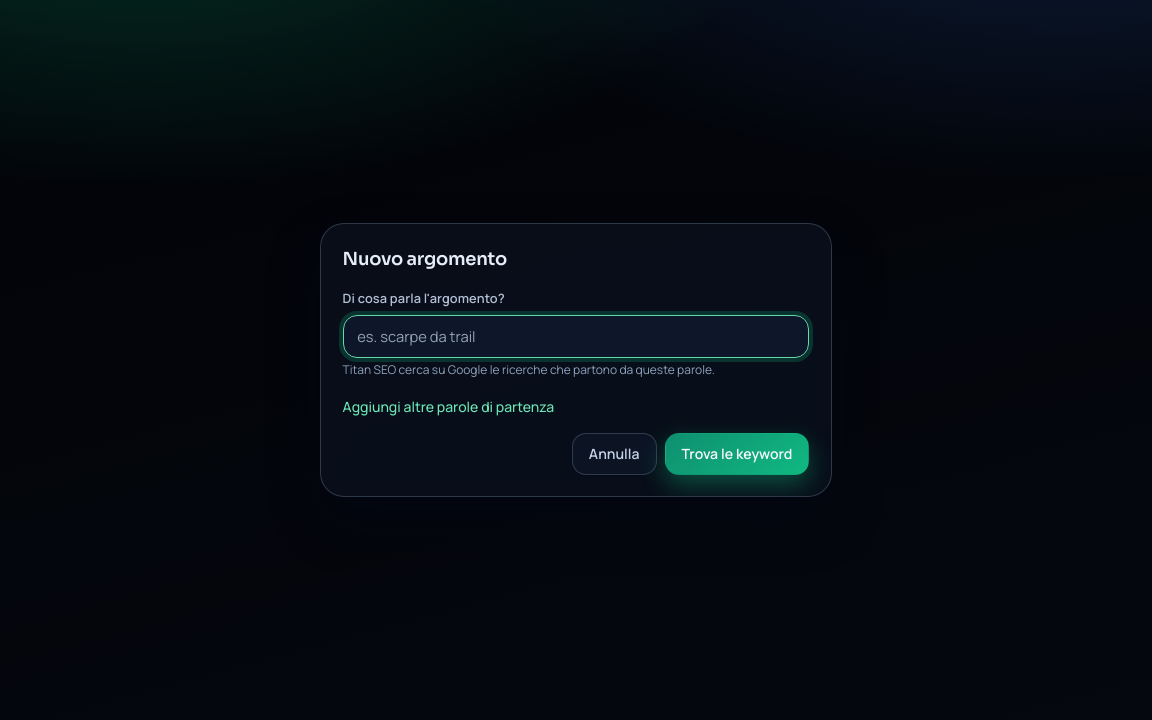
Test case: NewTopicDialog › con un nome già usato mostra il messaggio sotto il campo e non avvia nulla
The width and height of the screenshot is (1152, 720).
Type "scarpe" into the field labelled "Di cosa parla l'argomento?".
click(576, 337); type("scarpe")  # box [343,315,809,358]
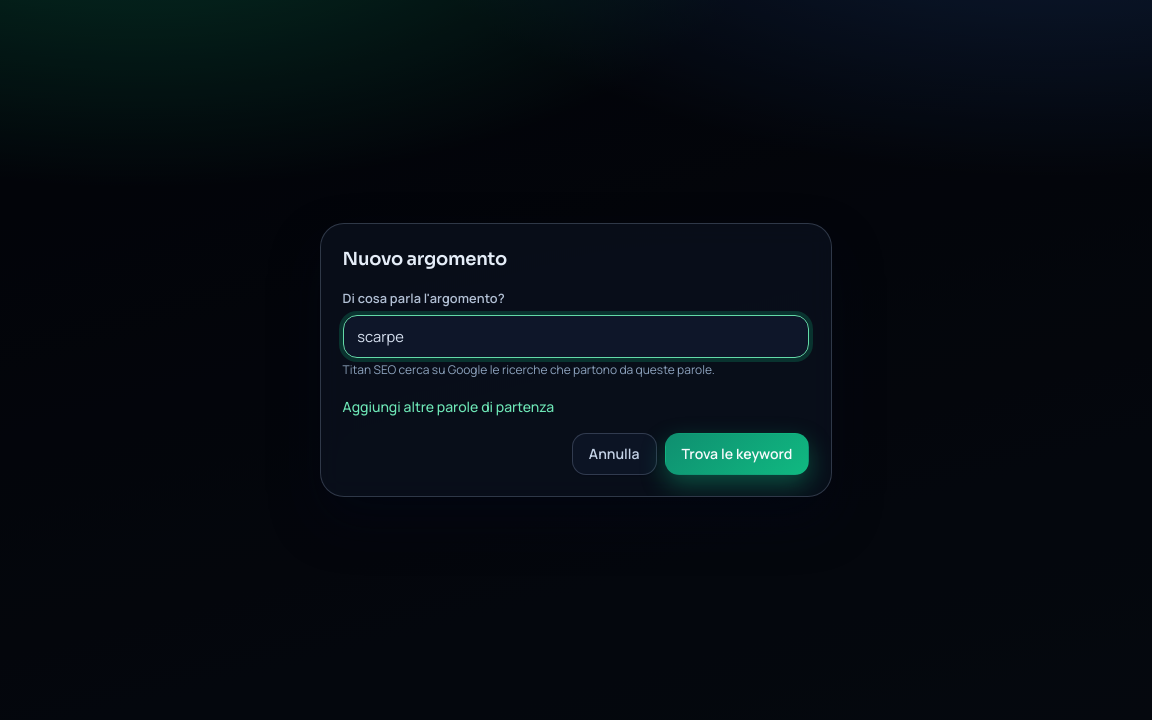
Click the button "Trova le keyword".
click(737, 454)  # box [665,433,809,475]
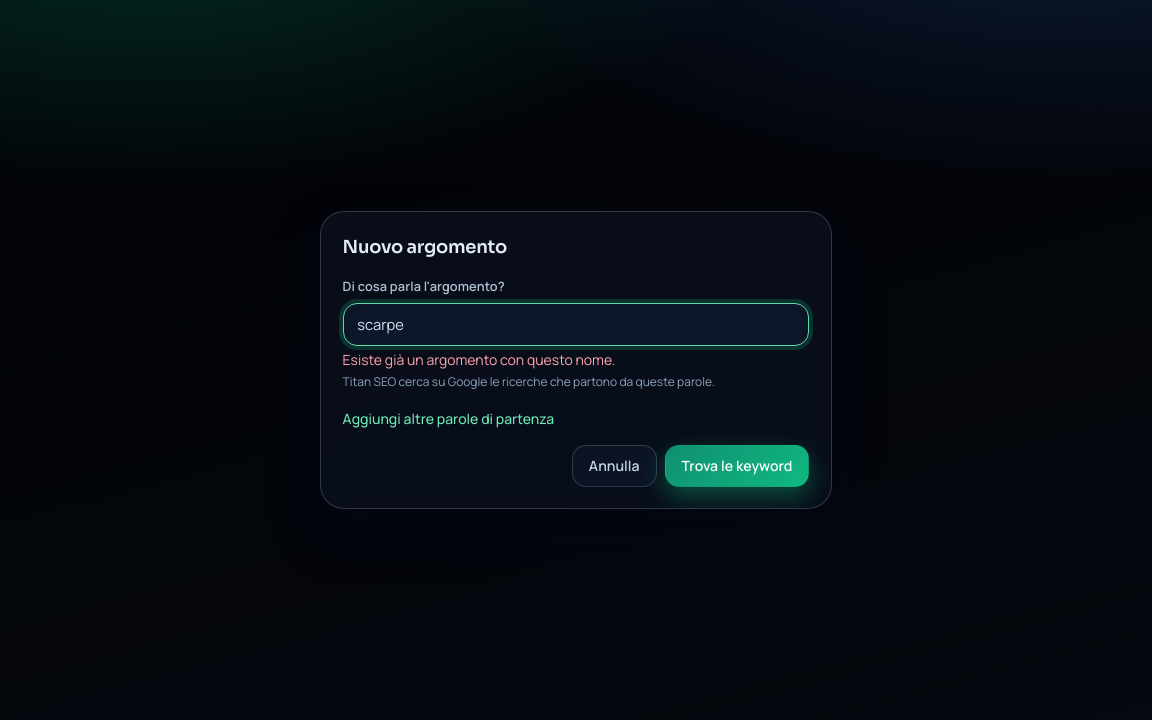
expect the message reads "Esiste già un argomento con questo nome.": met, box [343,350,615,369]
